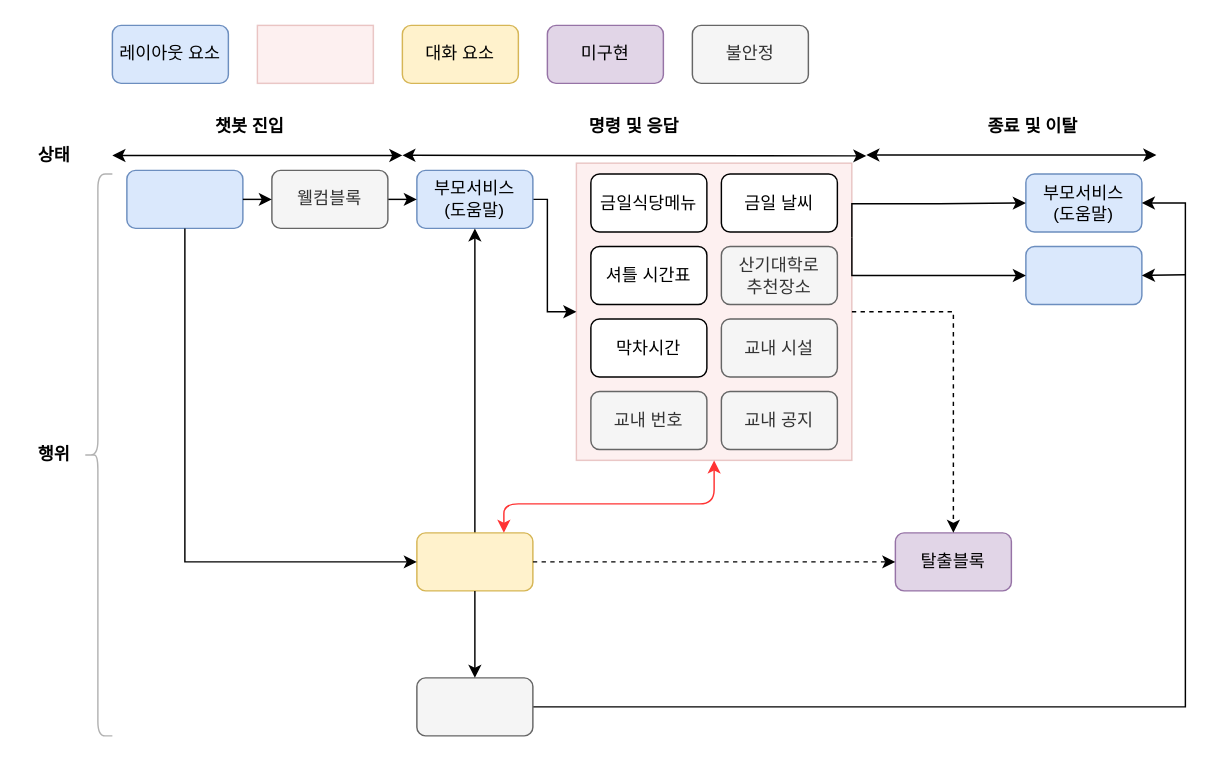
The diagram is 1222 pixels wide and 761 high, and some of its shapes have lost their labels. Each missing label, with the box of its shape:
기능: (256, 24, 373, 83)
말걸기: (415, 531, 533, 591)
챗봇이탈 (강제종료): (1024, 245, 1142, 304)
체널 (PC,mobile): (125, 169, 243, 228)
폴백블록: (415, 676, 533, 736)
